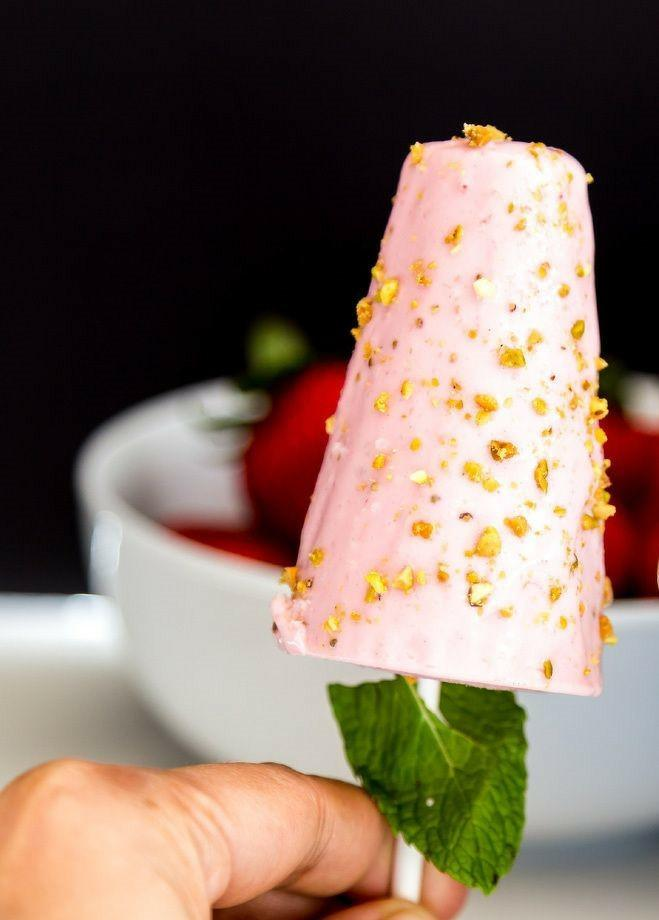Kulfi: (269, 125, 612, 700)
